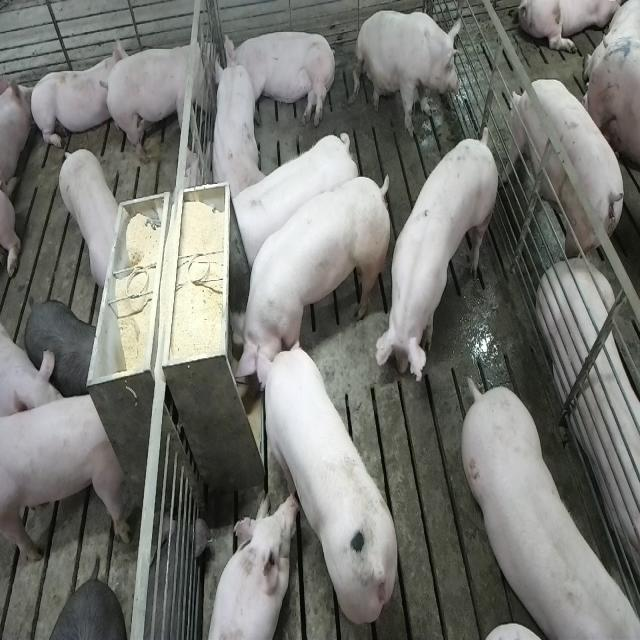Feeding: (250, 338, 400, 624), (224, 173, 388, 400)
Lateral_lying: (222, 28, 338, 128)
Sitting: (354, 8, 462, 138)
Standing: (464, 382, 640, 640), (380, 130, 502, 392), (2, 387, 131, 567), (508, 80, 632, 264), (230, 127, 360, 265), (104, 30, 218, 168), (57, 143, 123, 292)
Sternal_lying: (539, 258, 640, 600), (204, 492, 294, 640), (27, 34, 123, 156), (208, 47, 262, 203)
